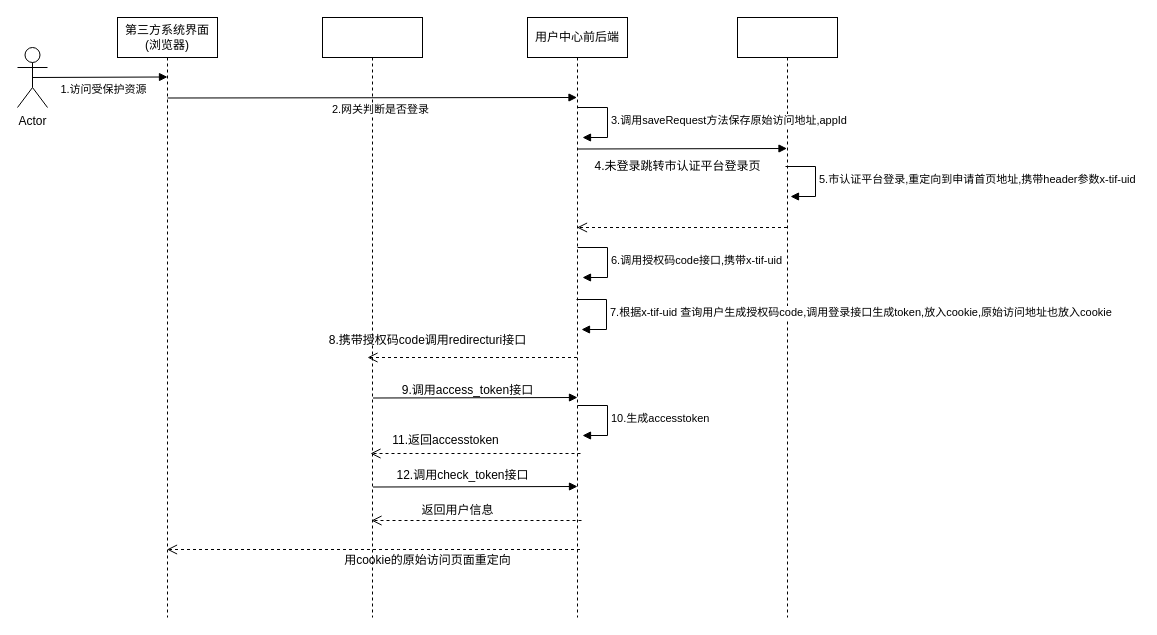
This 1157x635 diagram has some shape labels left out. Each missing label, with the box of its shape:
市认证平台: (736, 16, 838, 618)
第三方系统后端: (322, 16, 422, 618)
